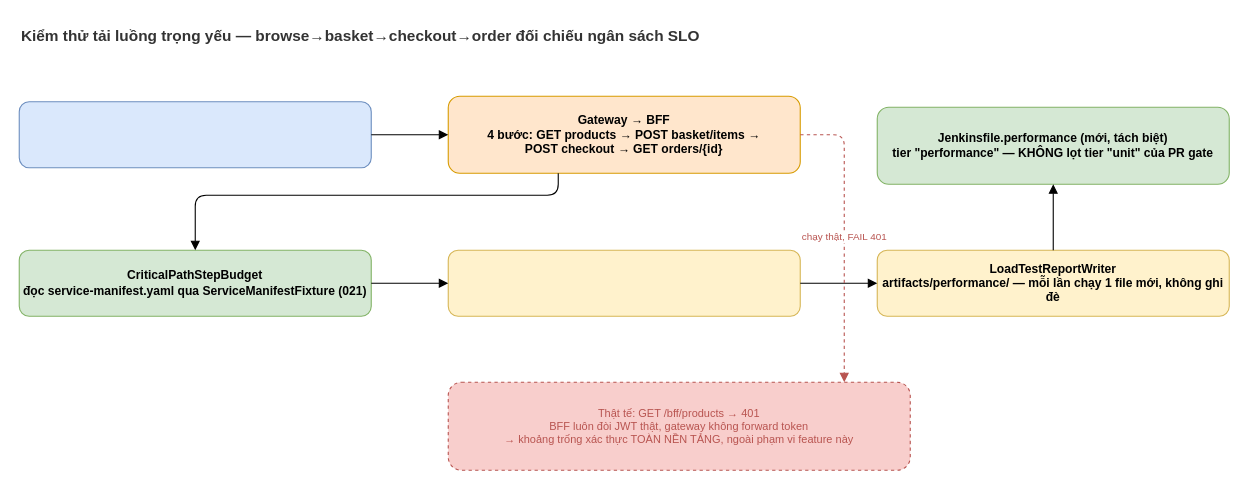
Image size: 1249x490. Some labels were removed from this diagram. The box of each missing label's shape, as (x1, y1, x2, y2) in pixels:
BudgetAssertions fail nếu p95/p99 đo được vượt ngưỡng bất kỳ bước nào: (447, 249, 800, 316)
tests/CriticalPathLoadTests NBomber 4.1.2 (ghim — license) + GatewayClient: (18, 101, 371, 168)
